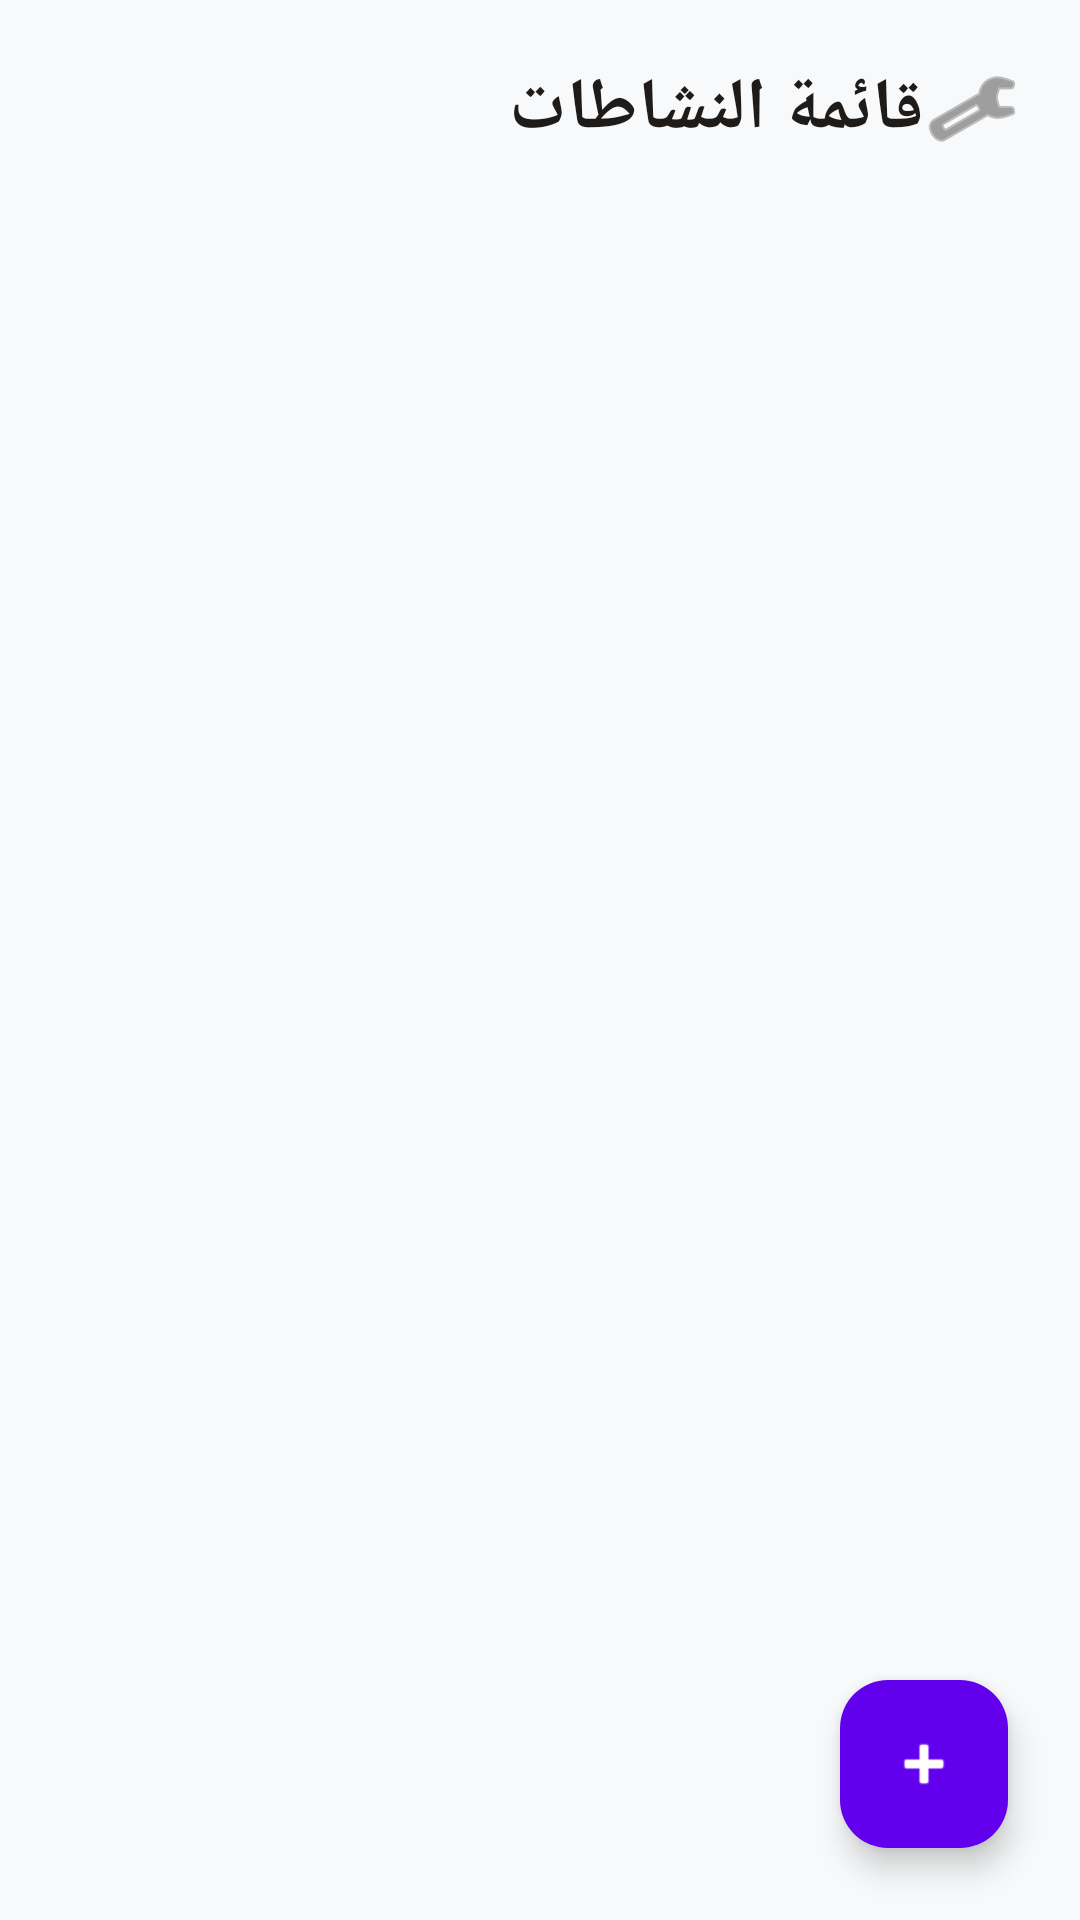

Icon click points for this 1080*1920 phone screenshot, format (x=x, y=y):
manage: (x=972, y=109)
إضافة نشاط: (x=924, y=1764)
